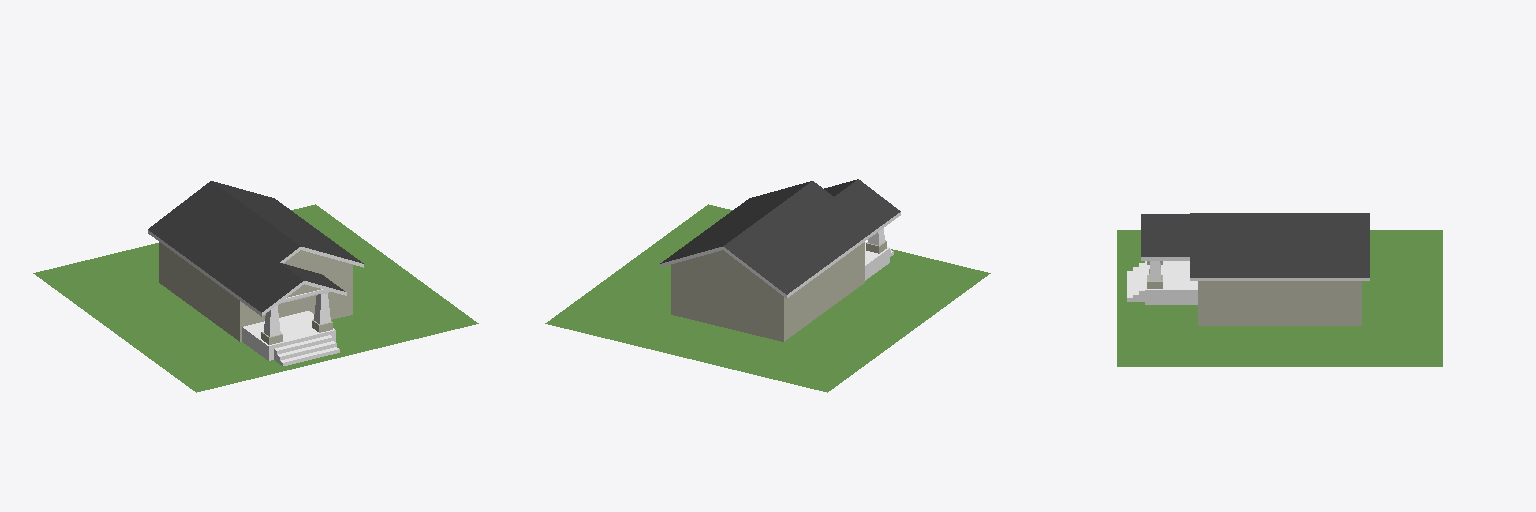
Rendered from craftsman-colored.obj.
3 renders of one model, left to right at view 1: azimuth 30°, elevation 25°; view 2: azimuth 150°, elevation 25°; view 3: azimuth 270°, elevation 25°, orthographic.
Parts seen in each view (by area): view 1: craftsman-colored.obj; view 2: craftsman-colored.obj; view 3: craftsman-colored.obj.
Part boxes in pixels (bbox=[...]): craftsman-colored.obj: bbox=[33, 181, 478, 392]; craftsman-colored.obj: bbox=[545, 179, 990, 392]; craftsman-colored.obj: bbox=[1117, 213, 1442, 366].
Bounding box in the file's own units: 20 × 5.75 × 20.